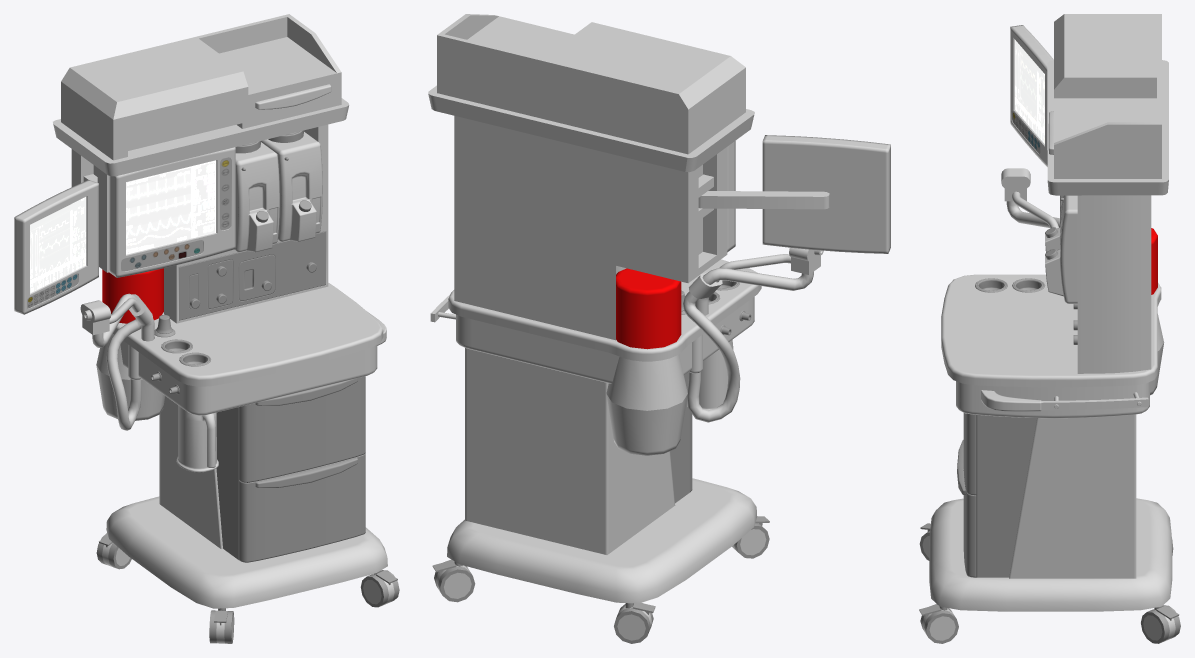
File: Generic_AnesthesiaMachine.FBX
The picture shows the model from 3 angles, left to right: view 1: azimuth 30°, elevation 25°; view 2: azimuth 150°, elevation 25°; view 3: azimuth 270°, elevation 25°; orthographic projection. The views are drawn at different scales.
Parts seen in each view (by area): view 1: Anesthesia Machine; view 2: Anesthesia Machine; view 3: Anesthesia Machine.
Part boxes in pixels (left/top/right/bottom): Anesthesia Machine: left=14, top=14, right=399, bottom=643; Anesthesia Machine: left=428, top=14, right=890, bottom=643; Anesthesia Machine: left=919, top=14, right=1180, bottom=643.
Size of the model in its own units: 49.19 by 65.81 by 29.86.
Materials: 5 (2 with a texture image).
